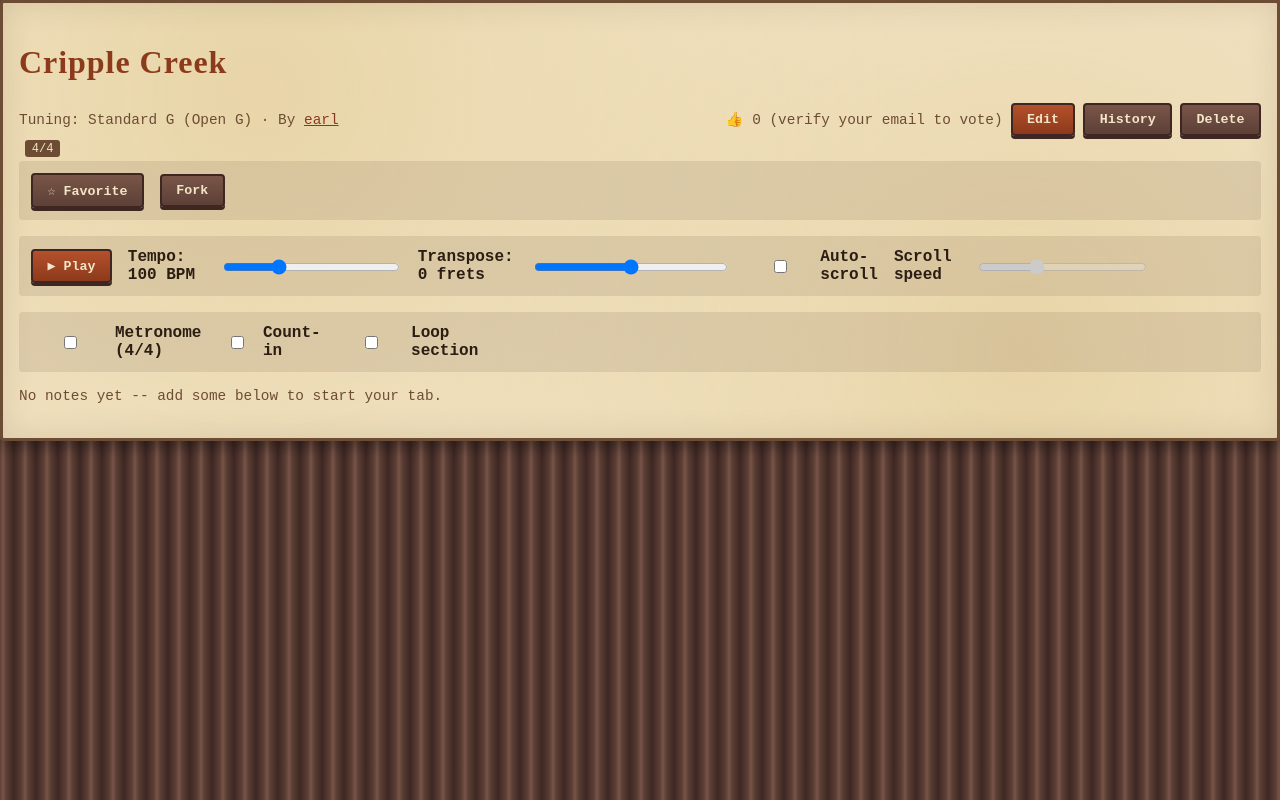
Test: TabViewPage deleting › can be cancelled
Click the button "Delete" at (1221, 120), box [1180,103,1261,136]
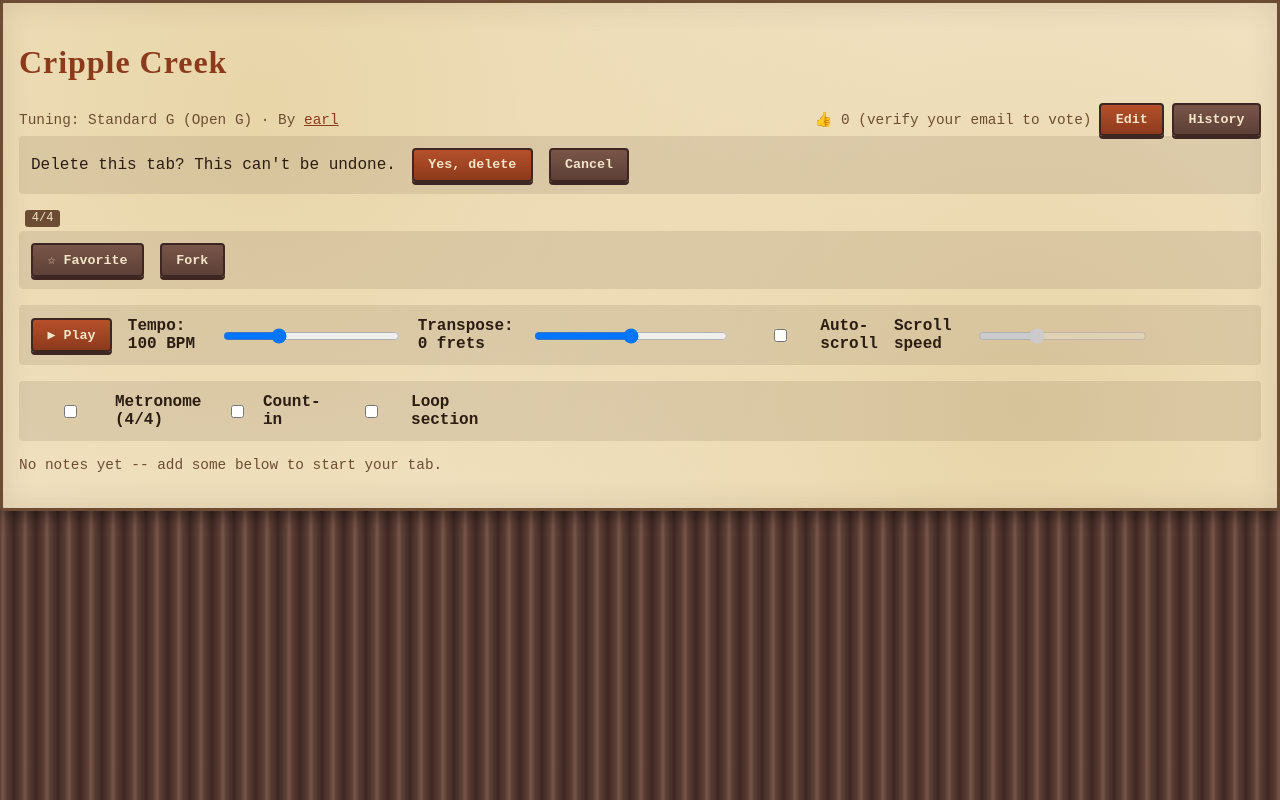
Click the button "Cancel" at (589, 165), box [549,148,629,182]
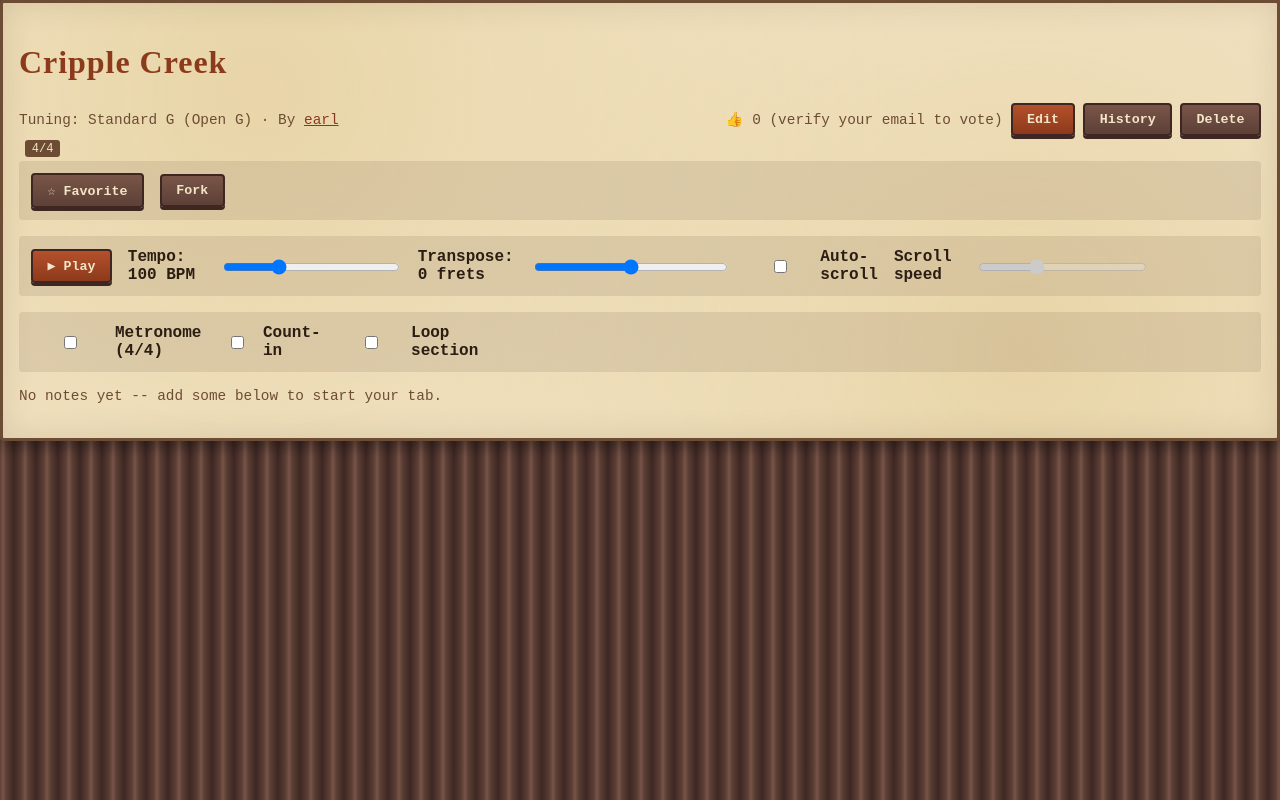
Check: the text "Delete this tab?" is gone
